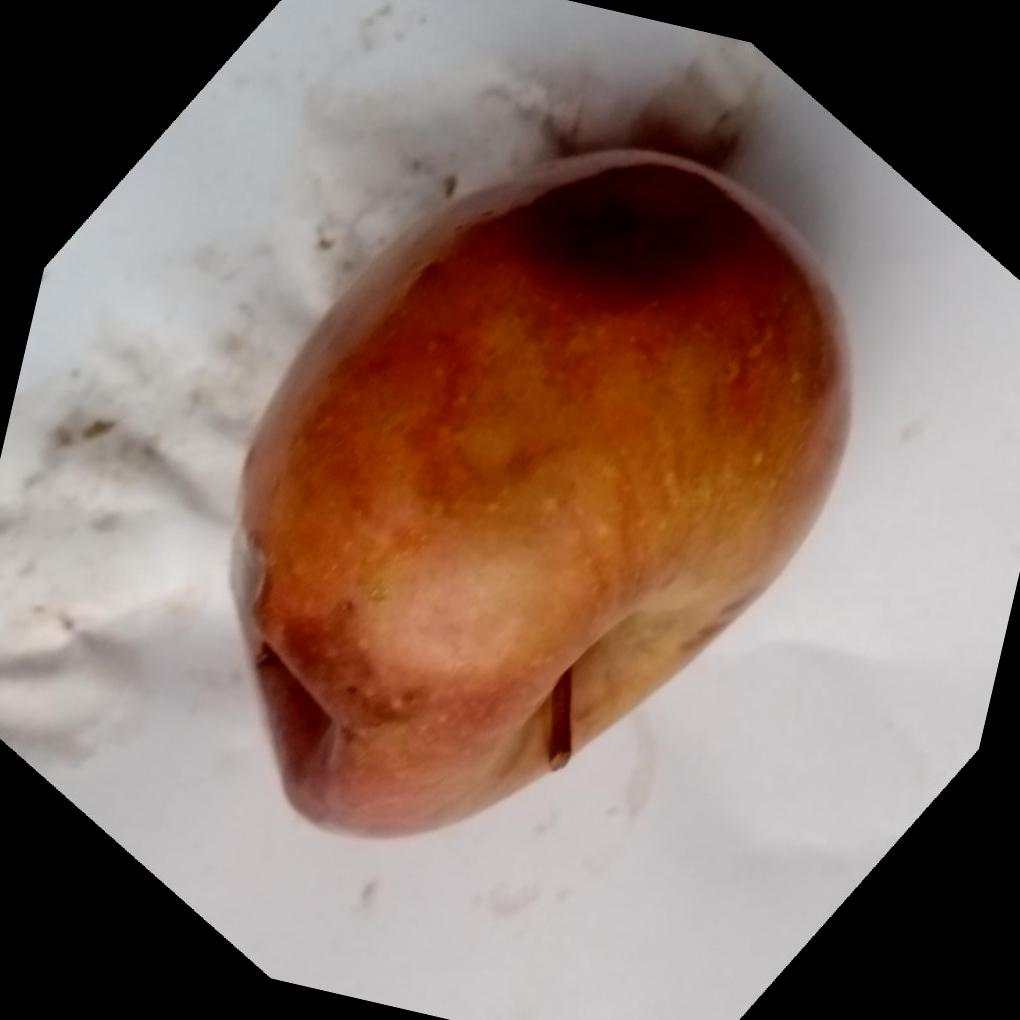FreshOrange: (233, 142, 853, 837)
